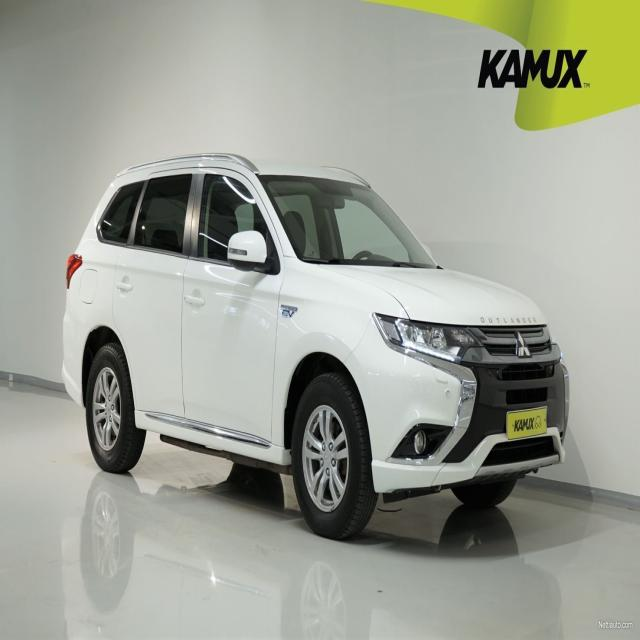light_vehicle: (61, 154, 570, 541)
